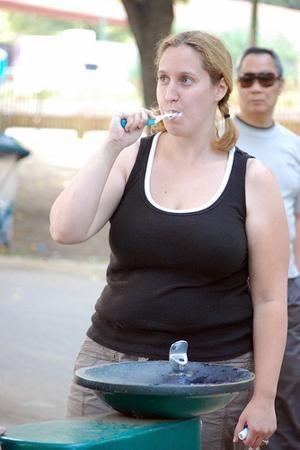person: (50, 29, 292, 446)
